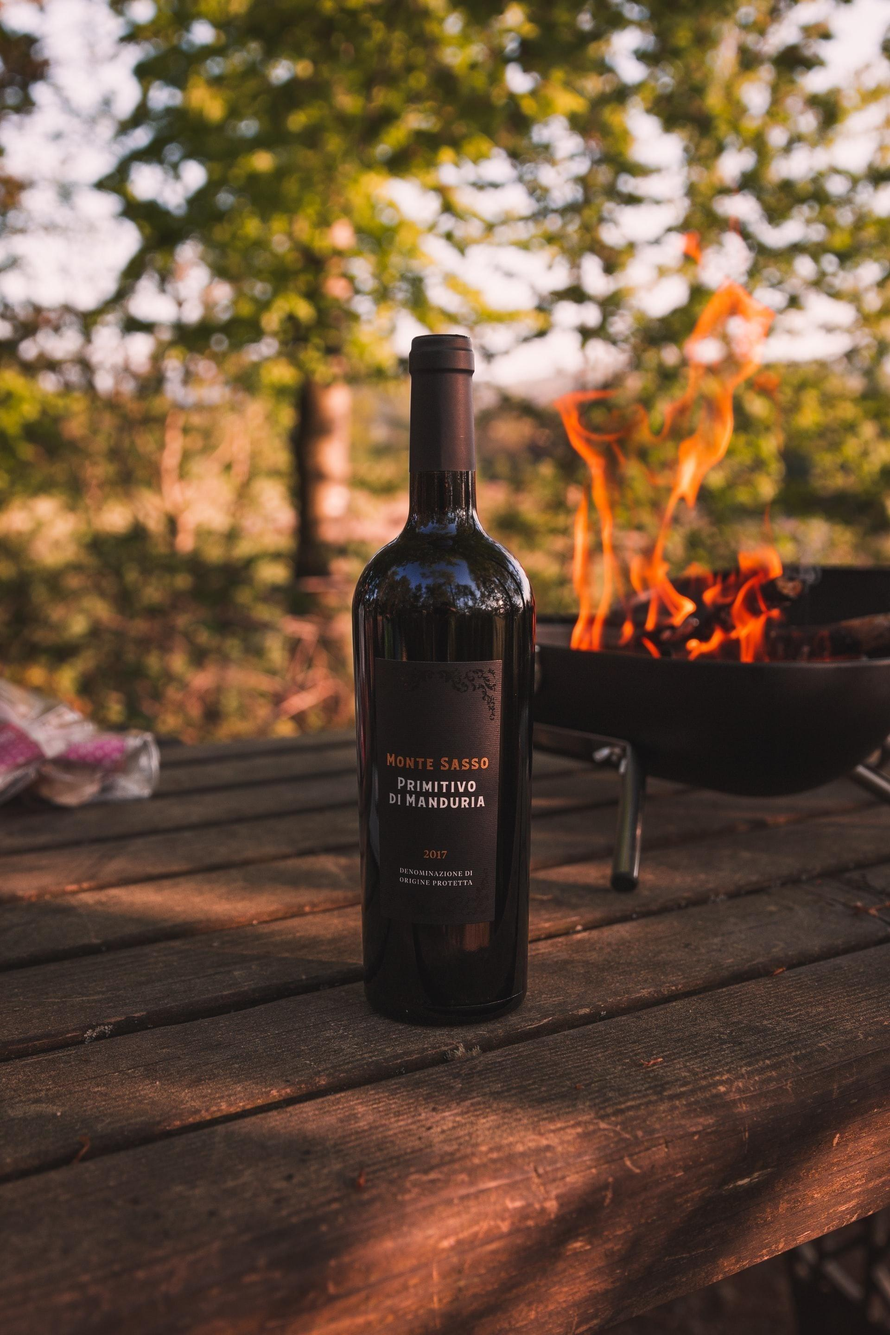bottle-glass: (343, 322, 551, 1032)
